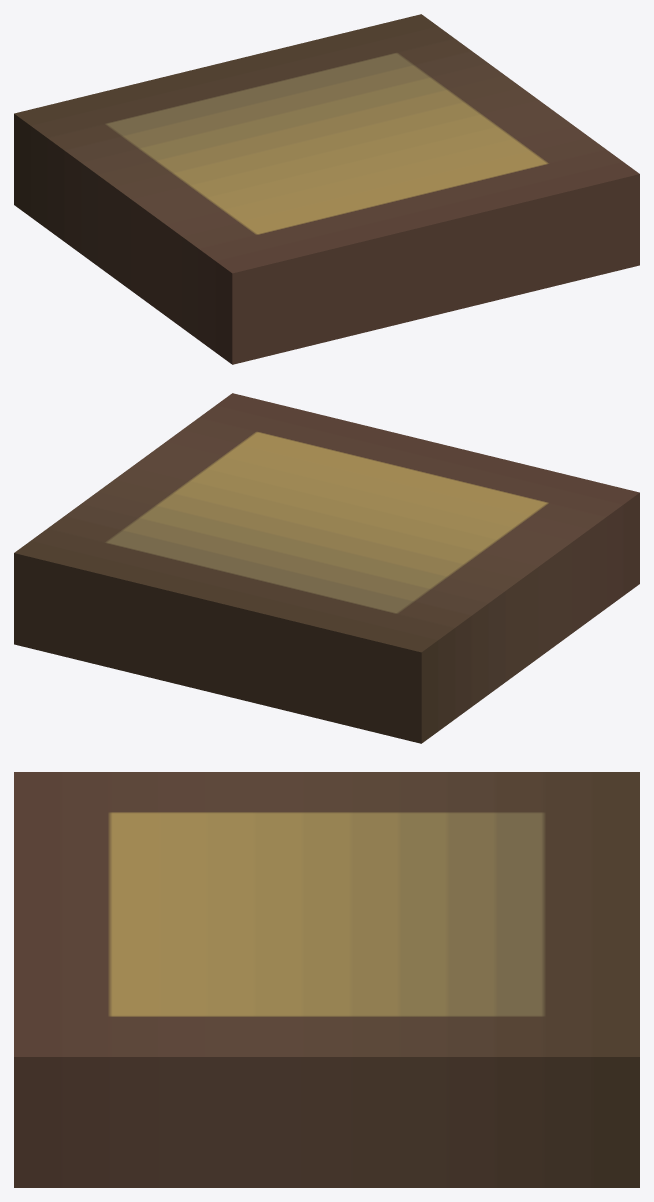
Rendered from Shield019.fbx.
3 renders of one model, top to bottom at view 1: azimuth 30°, elevation 25°; view 2: azimuth 150°, elevation 25°; view 3: azimuth 270°, elevation 25°, orthographic. The views are drawn at different scales.
Visible parts, largest first — view 1: Shield019; view 2: Shield019; view 3: Shield019.
Part boxes in pixels (left/top/right/bottom): Shield019: left=14, top=14, right=639, bottom=364; Shield019: left=14, top=393, right=639, bottom=743; Shield019: left=14, top=772, right=639, bottom=1187.
Bounding box in the file's own units: 14 × 3 × 13.
